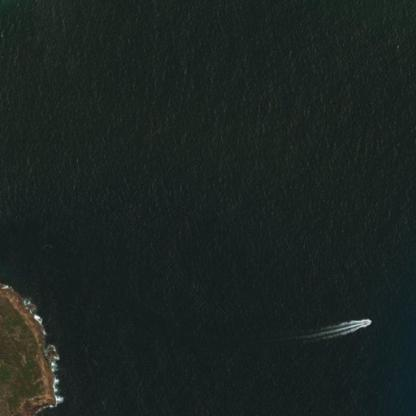ship: (366, 320, 372, 323)
